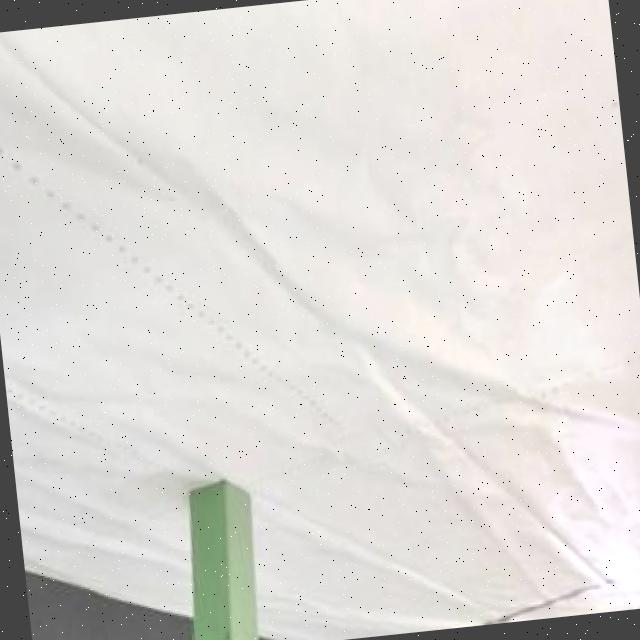greenbox: (179, 479, 268, 640)
